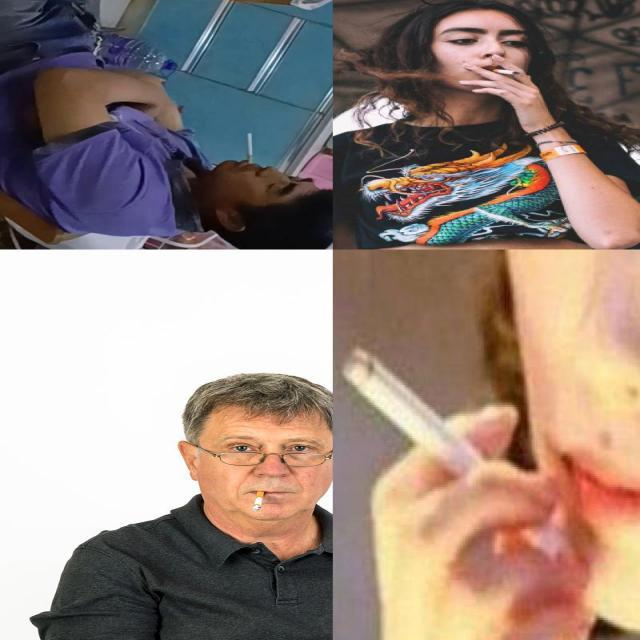cigarette: (340, 348, 542, 546), (250, 488, 269, 514), (246, 132, 254, 164), (490, 68, 521, 76)
